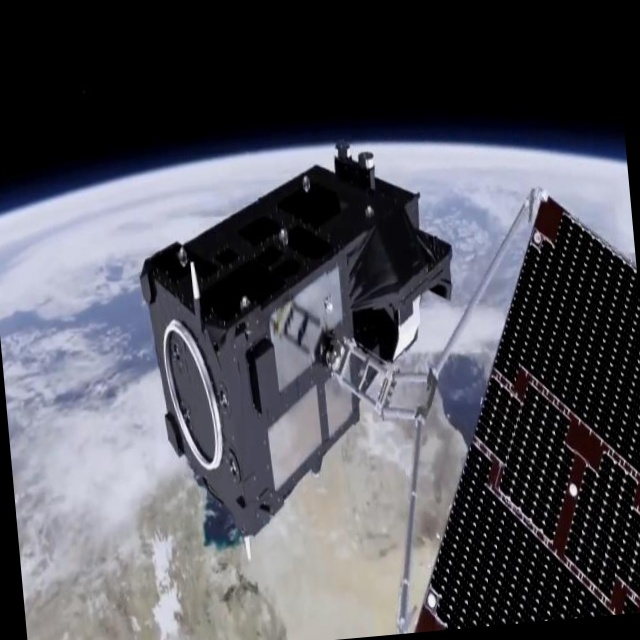satellite: (110, 85, 640, 640)
